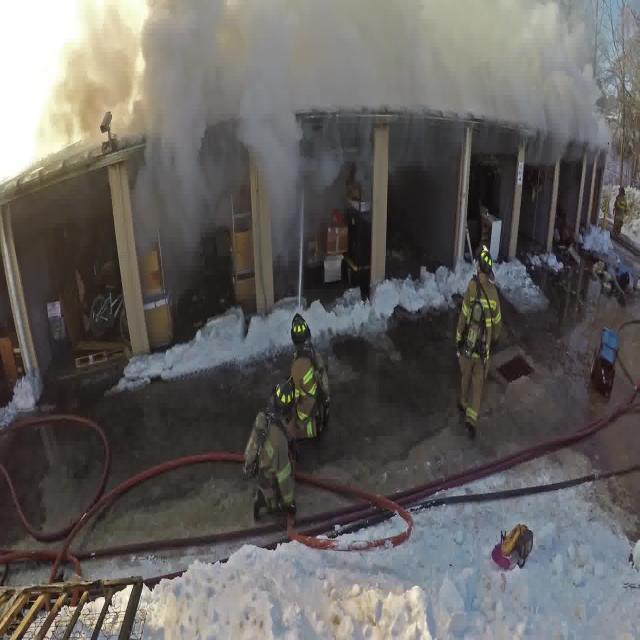Smoke: (0, 0, 615, 176)
